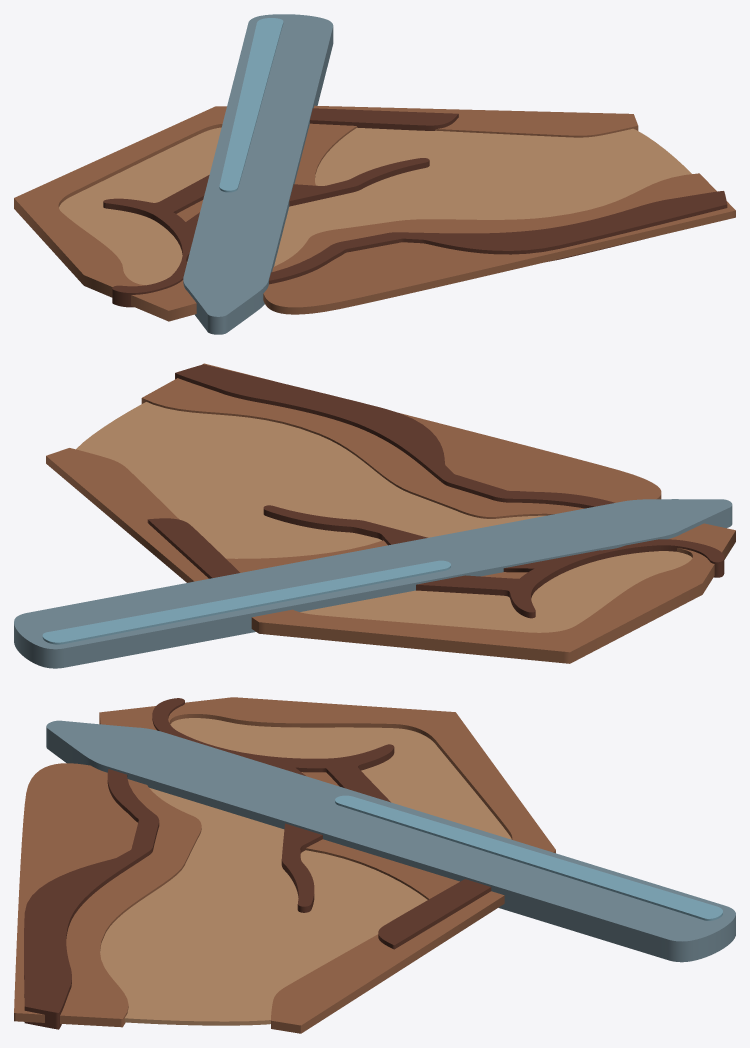
The model's file is emoji_u270d_1f3fd.glb.
3 views of the same model, one above another, from view 1: azimuth 30°, elevation 25°; view 2: azimuth 150°, elevation 25°; view 3: azimuth 270°, elevation 25° (orthographic). The views are drawn at different scales.
Visible parts, largest first — view 1: emoji_u270d_1f3fd; view 2: emoji_u270d_1f3fd; view 3: emoji_u270d_1f3fd.
Boxes of the visible parts, x1,y1,x2,y2 form: emoji_u270d_1f3fd: [14, 14, 735, 334]; emoji_u270d_1f3fd: [14, 363, 735, 668]; emoji_u270d_1f3fd: [14, 697, 735, 1033].
Size of the model in its own units: 0.0338 by 0.0012 by 0.0316.
